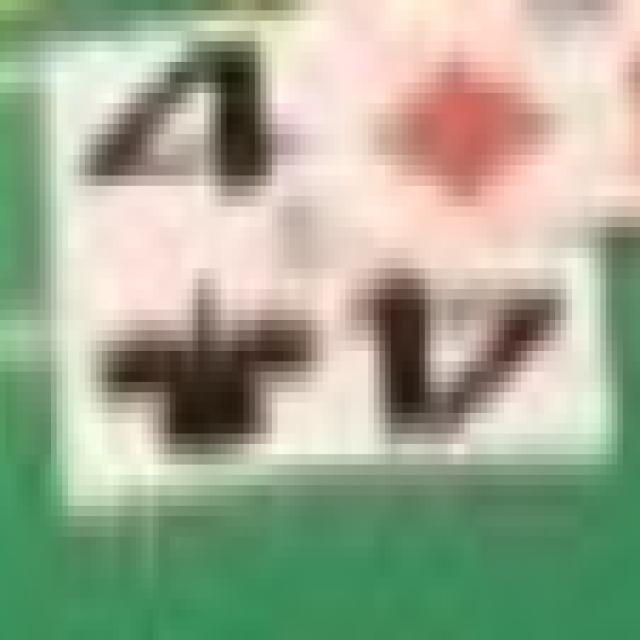Card-4: (54, 21, 613, 518)
